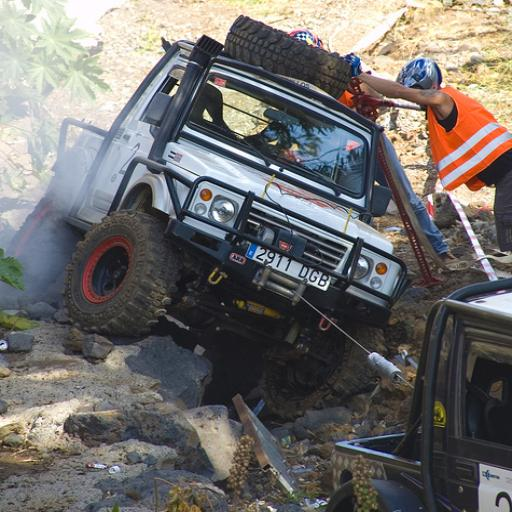person: (342, 52, 512, 265)
vehicle: (5, 11, 408, 420), (318, 276, 512, 512)
